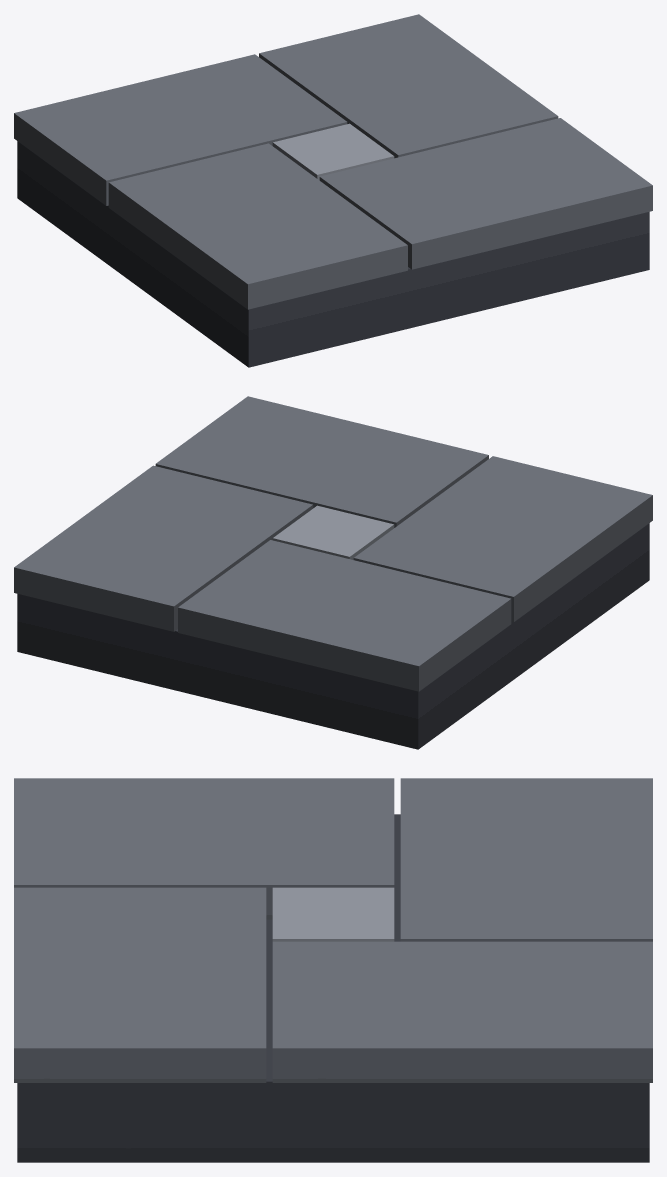
File: foundation_metal.glb
3 views of the same model, one above another, from view 1: azimuth 30°, elevation 25°; view 2: azimuth 150°, elevation 25°; view 3: azimuth 270°, elevation 25° (orthographic). The views are drawn at different scales.
Size of the model in its own units: 1 by 0.2 by 1.
Materials: 1 (1 with a texture image).
